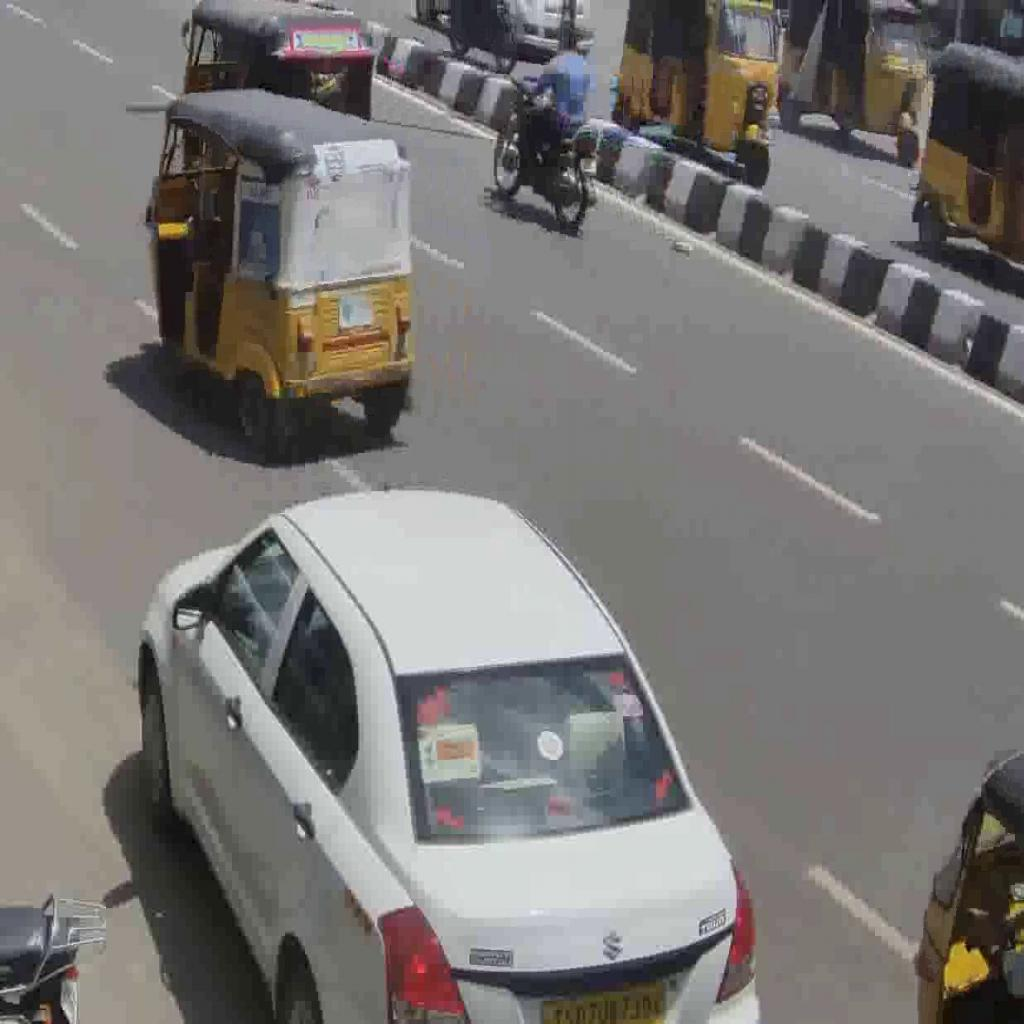helmet: (492, 74, 598, 234)
